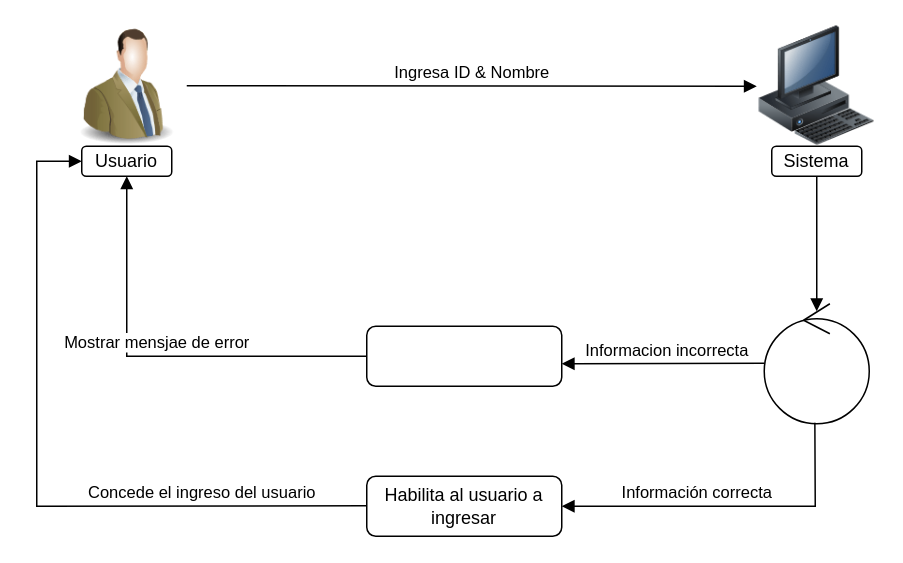
Image size: 903x563. Some labels were removed from this diagram. Here are the shapes that lost their labels. From the top down, the box of each, then its label:
(365, 325, 562, 386): mensaje "Ususario o contraseña incorrecta"
(763, 302, 869, 424): Valida la informacion
